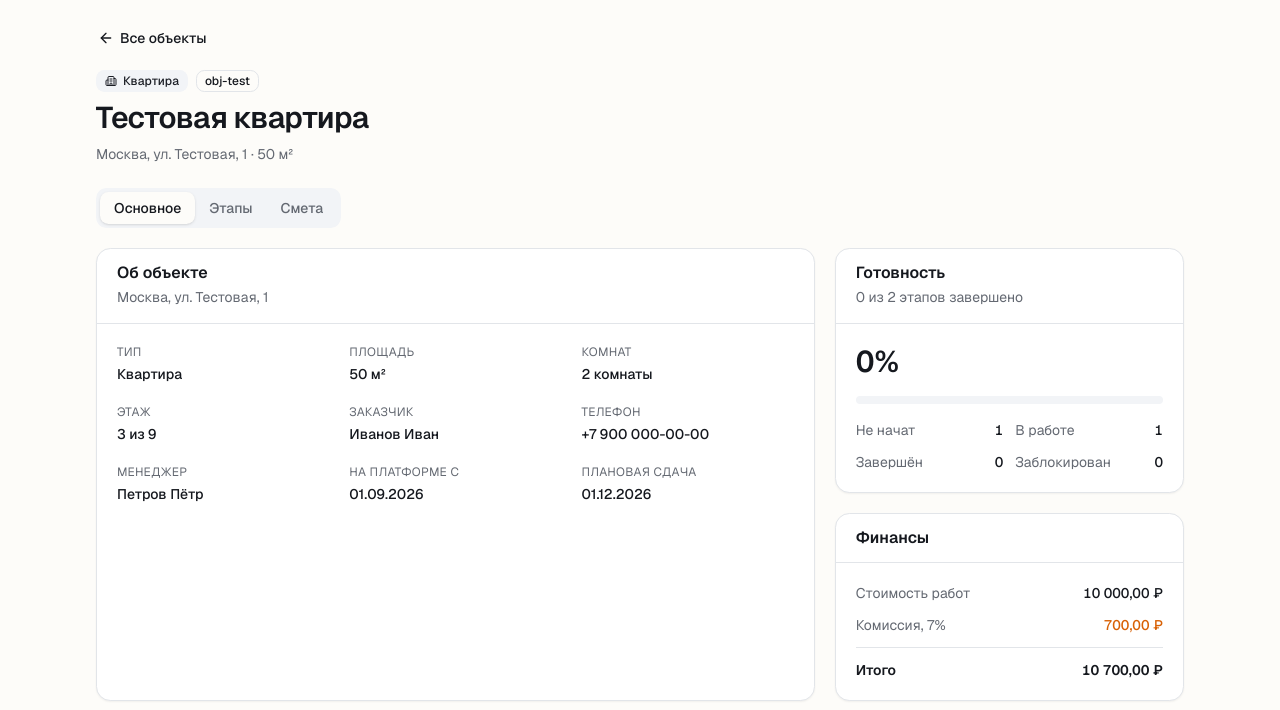
ObjectPassportView · смета › принимает количество с запятой как десятичный разделитель
Click the tab "Смета".
click(302, 208)  # box 266,192 -> 337,224
(page scrolled)
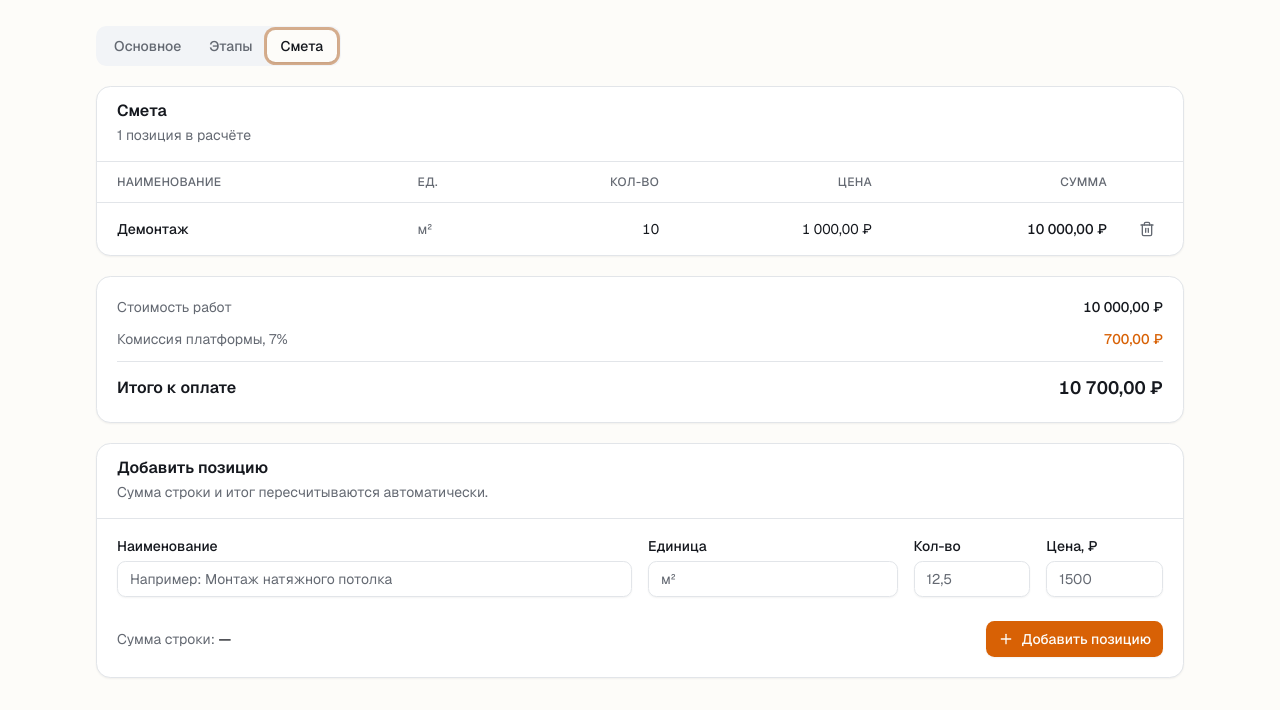
Type "Плинтус" into the field labelled "Наименование".
click(374, 578); type("Плинтус")  # box 117,560 -> 632,596
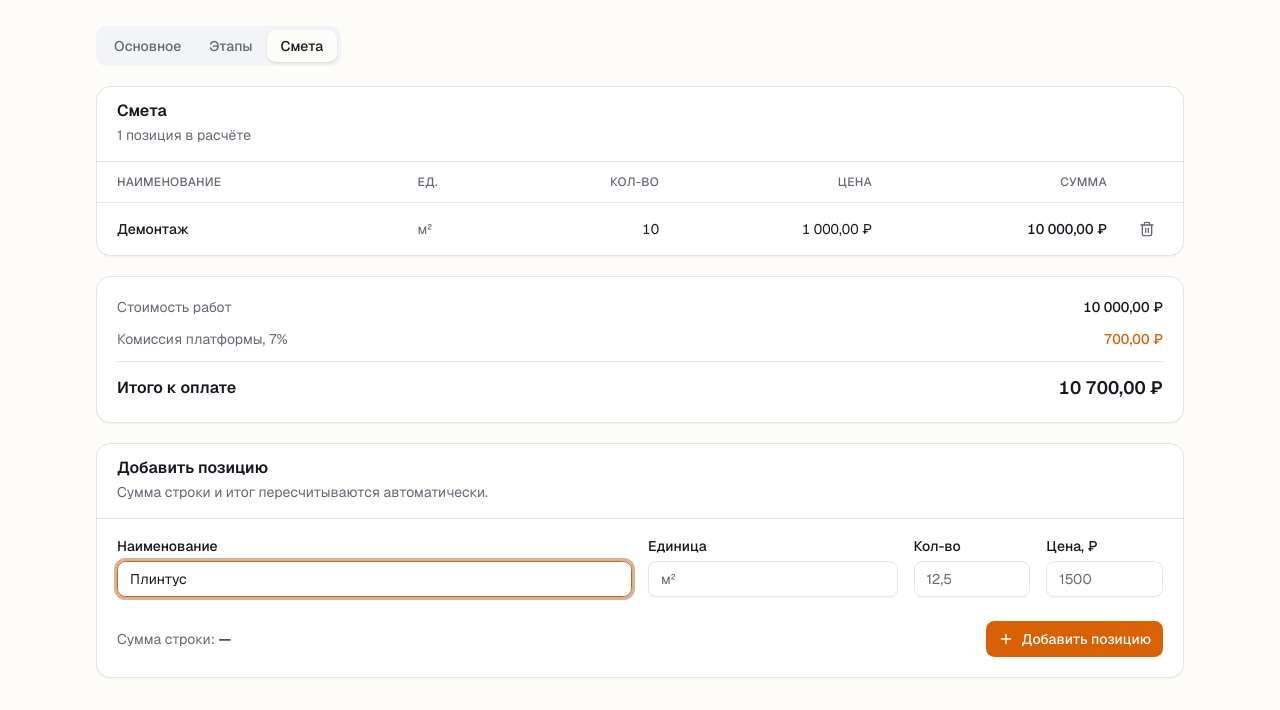
Type "пог. м" into the field labelled "Единица".
click(773, 578); type("пог. м")  # box 648,560 -> 898,596
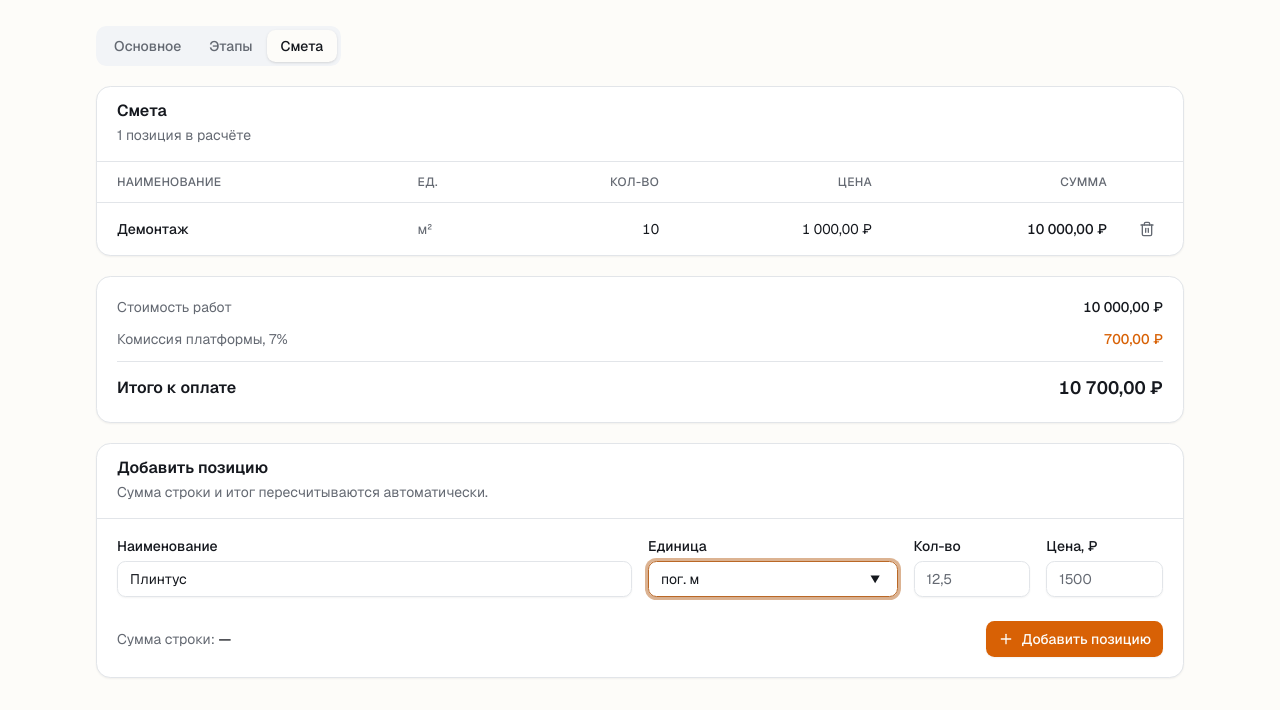
Type "2,5" into the field labelled "Кол-во".
click(972, 578); type("2,5")  # box 914,560 -> 1030,596
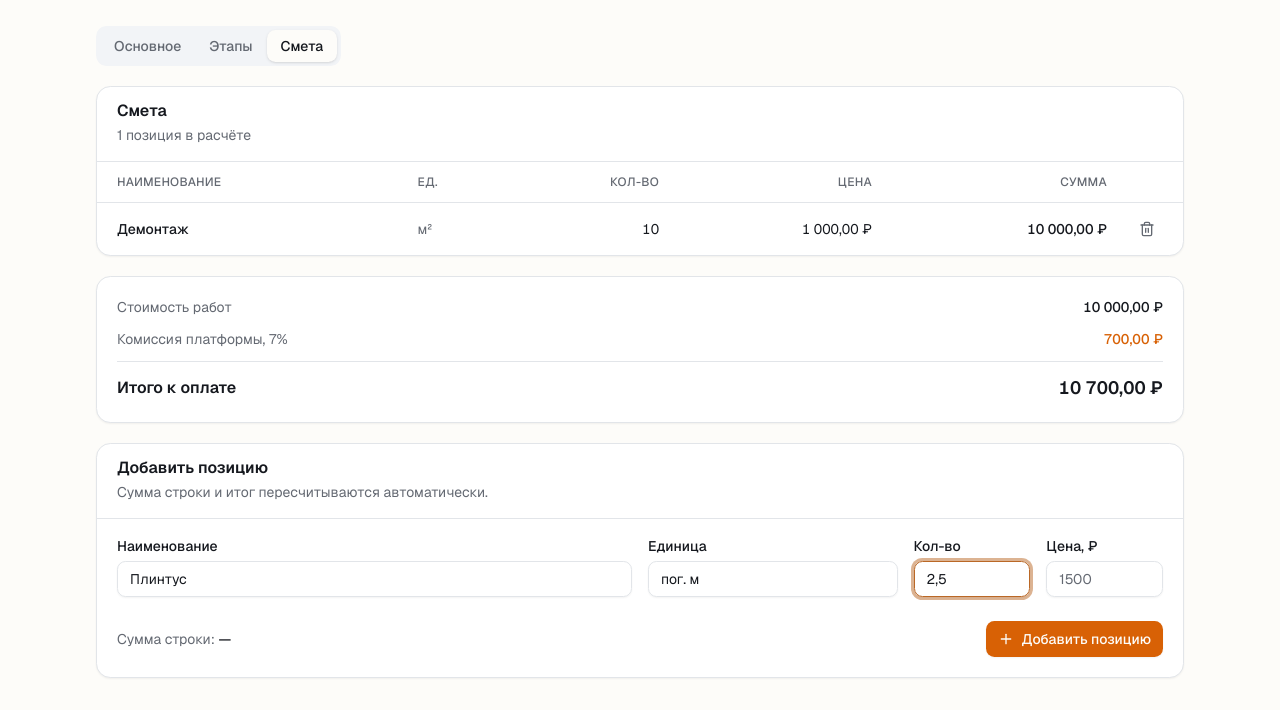
Type "200" into the field labelled "Цена, ₽".
click(1105, 578); type("200")  # box 1046,560 -> 1163,596
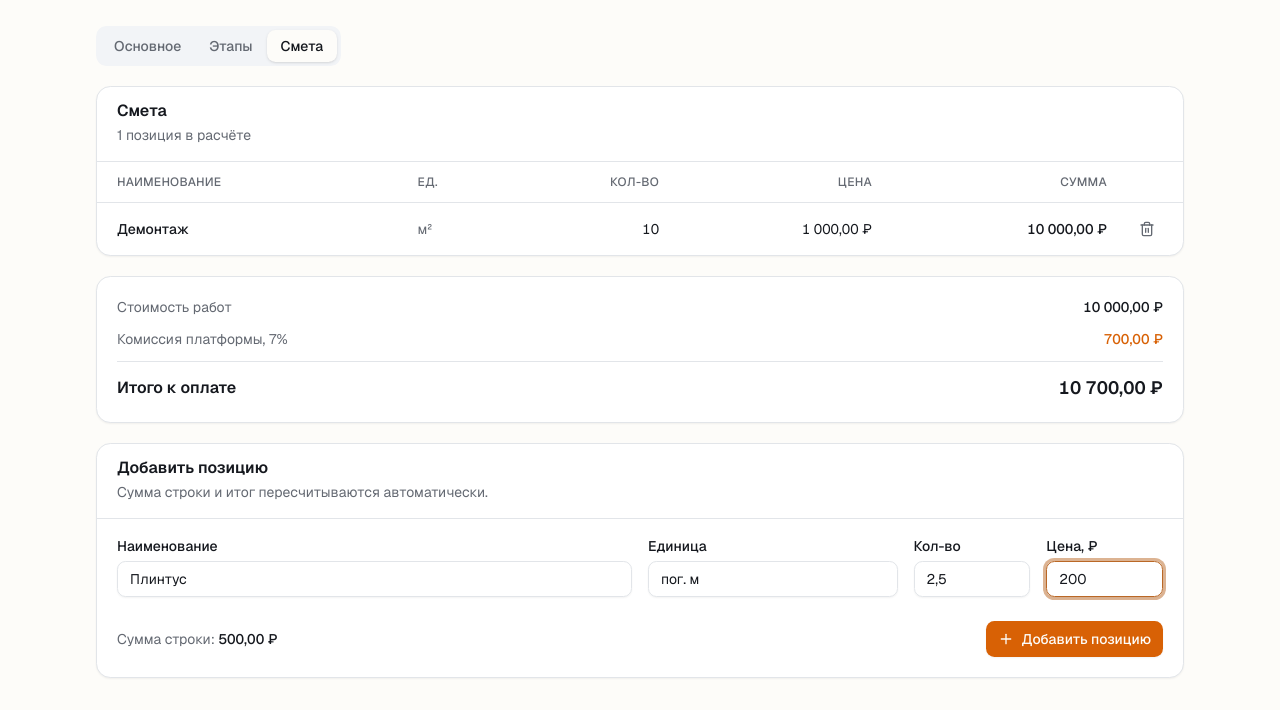
Click the button "Добавить позицию".
click(1074, 638)  # box 986,620 -> 1163,656
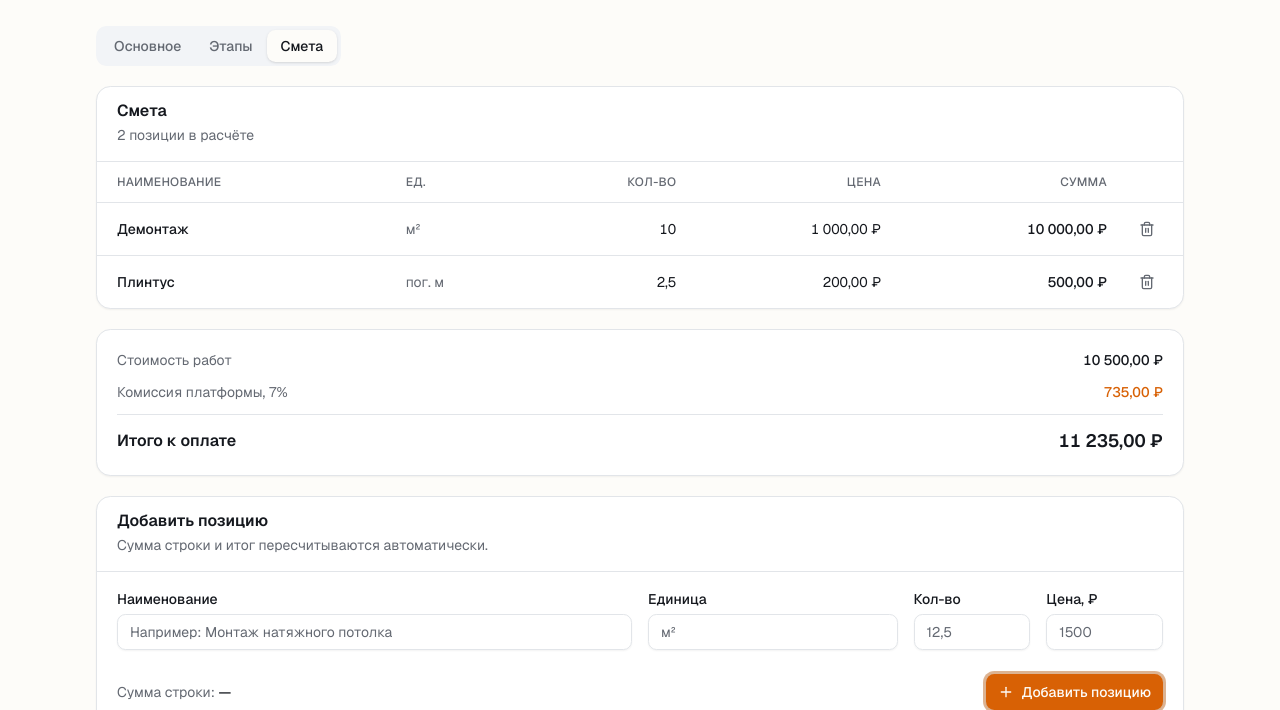
Expected: the number of rows with test id "estimate-row" is 2, 97,202 -> 1183,255; 97,255 -> 1183,308
Expected: the text "500,00 ₽" is shown, 893,255 -> 1119,308
